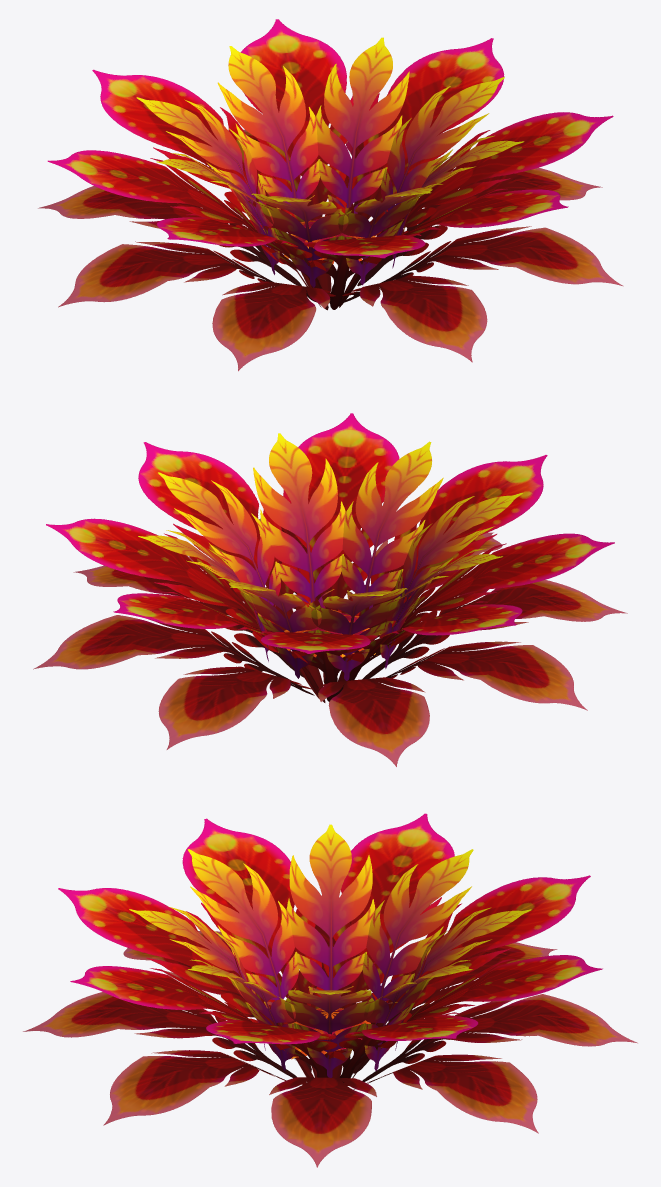
Rendered from Red_Bush_04a.FBX.
3 views of the same model, one above another, from view 1: azimuth 30°, elevation 25°; view 2: azimuth 150°, elevation 25°; view 3: azimuth 270°, elevation 25° (orthographic).
Parts seen in each view (by area): view 1: Red_Bush_04a; view 2: Red_Bush_04a; view 3: Red_Bush_04a.
Boxes of the visible parts, box(x1,y1,x2,y2) form: Red_Bush_04a: box(38, 19, 623, 371); Red_Bush_04a: box(33, 413, 627, 766); Red_Bush_04a: box(23, 813, 637, 1167).
Bounding box in the file's own units: 180 × 60.21 × 180.
